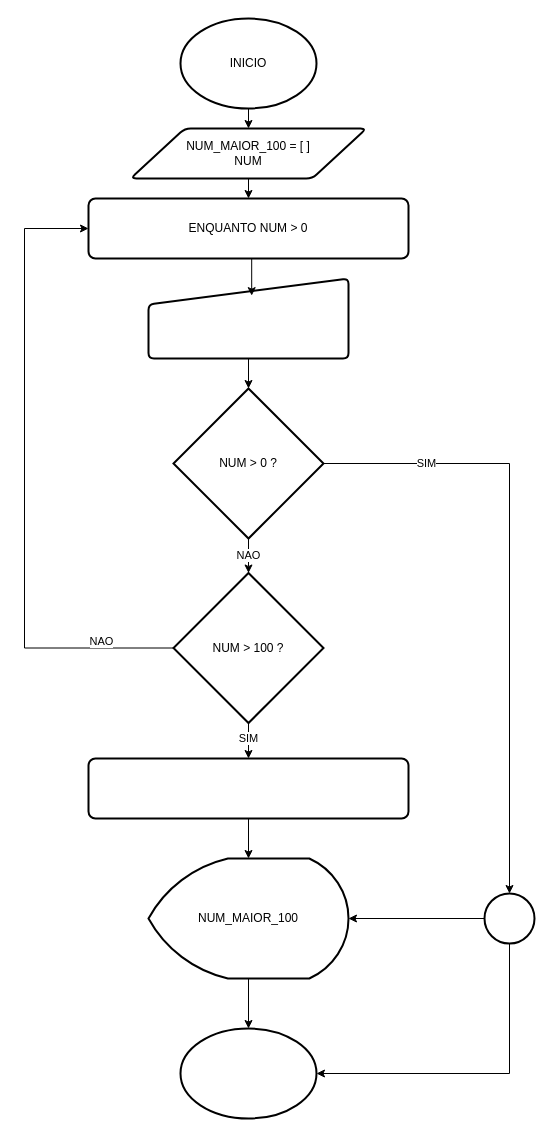
This 553x1136 diagram has some shape labels left out. Here are the shapes that lost their labels. From the top down, the centre of each, then its label:
At point (248, 318): "LER NUM".
At point (248, 788): "ADD NUM A NUM_MAIOR_100".
At point (248, 1073): "FIM".
